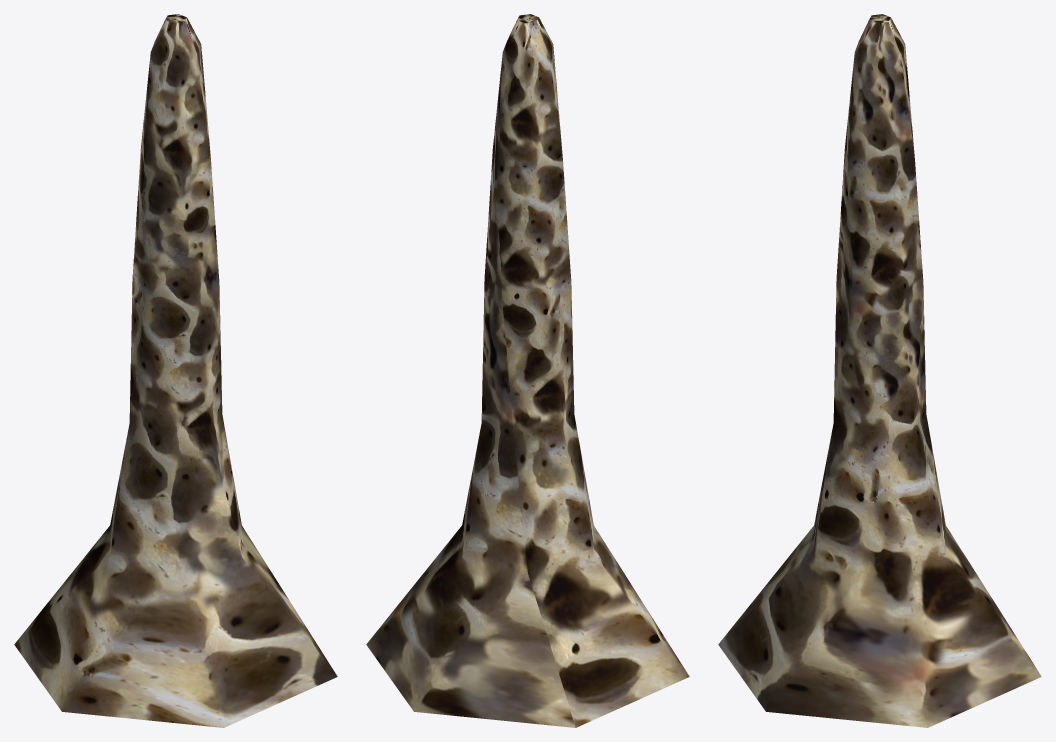
The model's file is CoralStone-03_LOD0.fbx.
3 views of the same model, side by side, from view 1: azimuth 30°, elevation 25°; view 2: azimuth 150°, elevation 25°; view 3: azimuth 270°, elevation 25° (orthographic).
Parts seen in each view (by area): view 1: CoralStone-03_high; view 2: CoralStone-03_high; view 3: CoralStone-03_high.
Boxes of the visible parts, <box> form: CoralStone-03_high: <box>14,14,337,727</box>; CoralStone-03_high: <box>366,14,689,727</box>; CoralStone-03_high: <box>718,14,1041,727</box>.
Size of the model in its own units: 0.1675 by 0.3725 by 0.1702.
